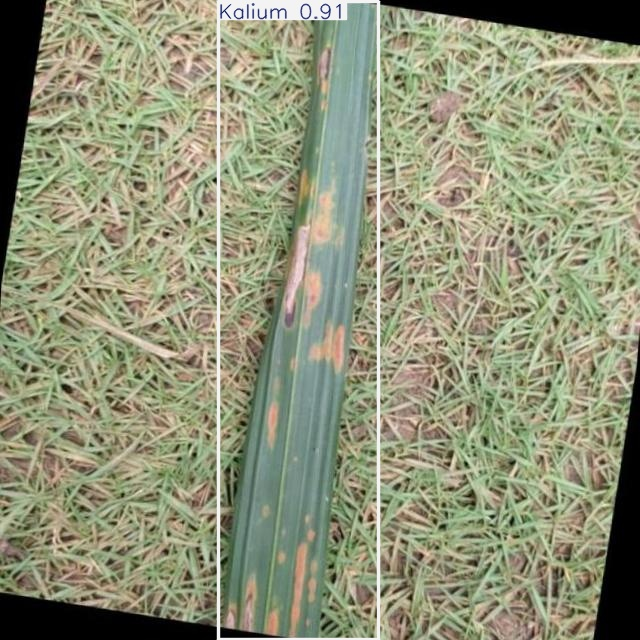Kalium: (218, 2, 378, 639)
